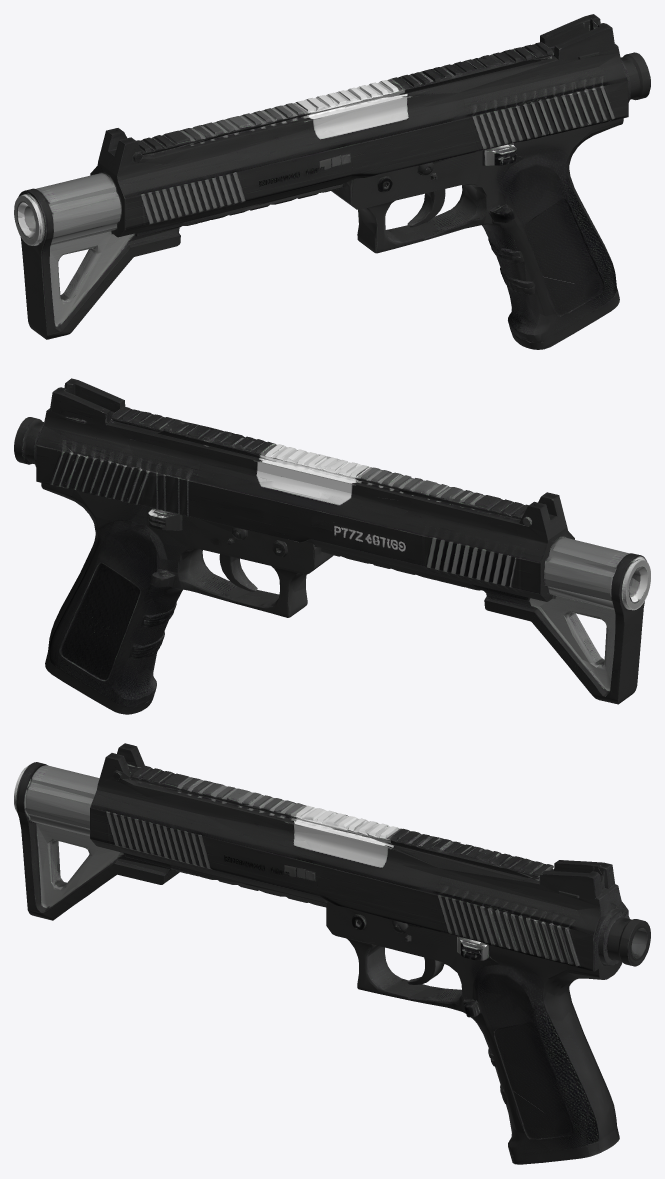
3 renders of one model, top to bottom at view 1: azimuth 30°, elevation 25°; view 2: azimuth 150°, elevation 25°; view 3: azimuth 330°, elevation 25°, orthographic.
Bounding box in the file's own units: 1.9 × 0.902 × 0.2226.
Materials: 1 (1 with a texture image).
